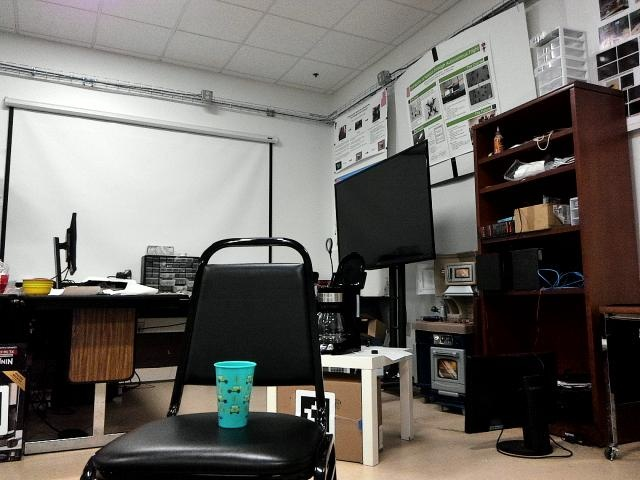coffee_cup: (209, 357, 260, 432)
